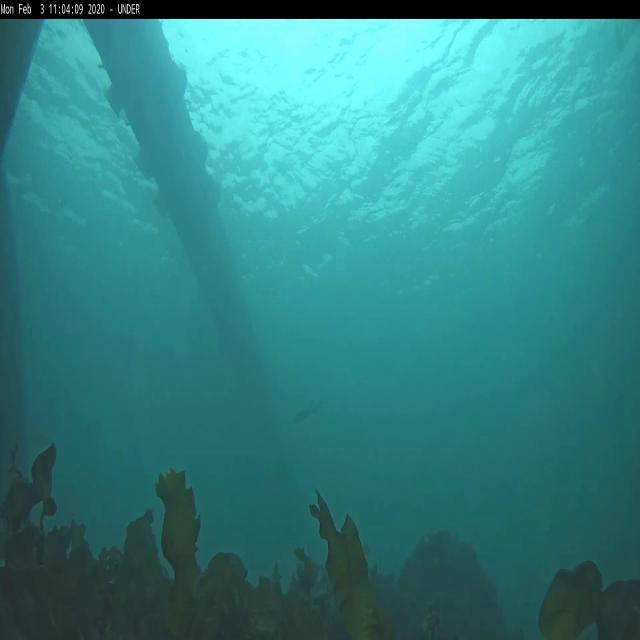fish: (294, 406, 319, 425)
